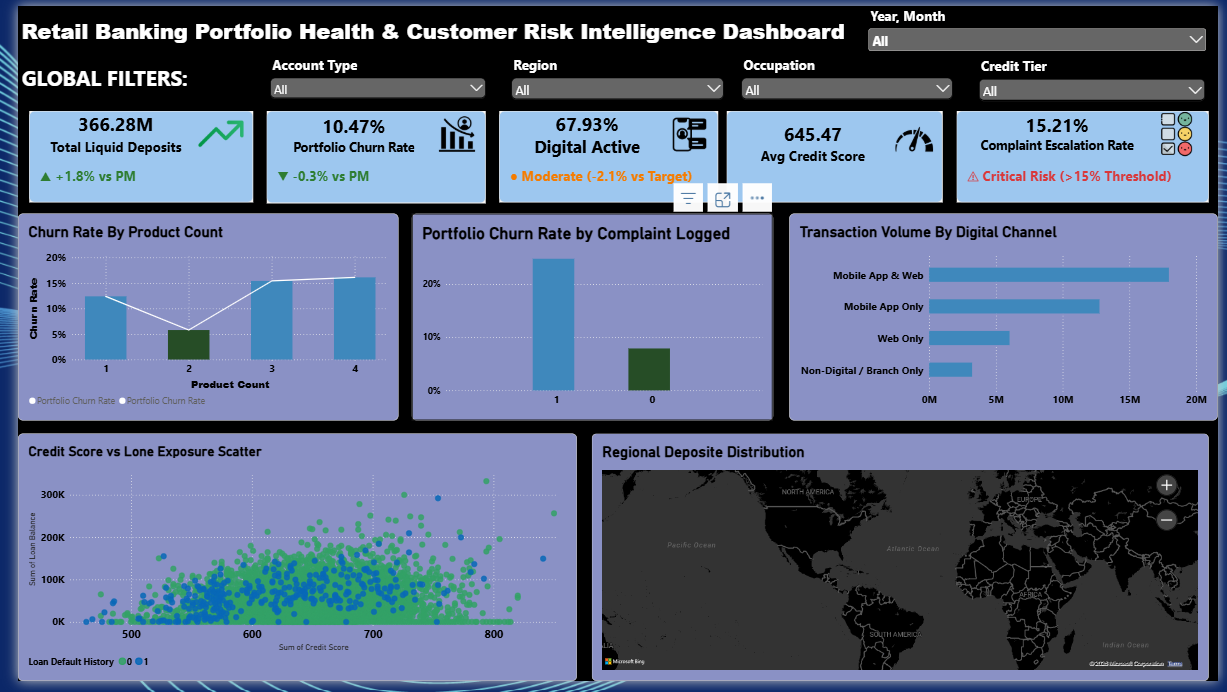

Layout of this report page (visuals, bound fields, positions):
{"tool":"powerbi","page":{"name":"Page 1","canvas":[1920,1080],"ordinal":0},"visuals":[{"type":"cardVisual","fields":{"Data":["Main Data.Total Liquid Deposits"]},"box":[18.3,167.3,358.5,146.2],"z":0},{"type":"cardVisual","fields":{"Data":["Main Data.Portfolio Churn Rate"]},"box":[397.8,167.3,350,147.6],"z":1000},{"type":"cardVisual","fields":{"Data":["Main Data.Digital Adoption Rate"]},"box":[770.4,167.3,350,146.2],"z":2000},{"type":"cardVisual","fields":{"Data":["Main Data.Average Credit Score"]},"box":[1134.5,167.3,345.8,146.2],"z":3000},{"type":"cardVisual","fields":{"Data":["Main Data.Complaint Escalation Rate"]},"box":[1502.8,167.3,403.5,146.2],"z":4000},{"type":"lineClusteredColumnComboChart","title":"Churn Rate By Product Count","fields":{"Category":["Main Data.Num Products"],"Y":["Main Data.Portfolio Churn Rate"],"Y2":["Main Data.Portfolio Churn Rate"]},"box":[0,332.7,609.1,330.9],"z":5000},{"type":"columnChart","fields":{"Category":["Main Data.Complaint Logged"],"Y":["Main Data.Portfolio Churn Rate"]},"box":[629.1,332.7,578.2,330.9],"z":6000},{"type":"scatterChart","title":"Credit Score vs Lone Exposure Scatter","fields":{"X":["Sum(Main Data.Credit Score)"],"Y":["Sum(Main Data.Loan Balance)"],"Series":["Main Data.Loan Default History"],"Category":["Main Data.Customer ID"]},"box":[0,683.6,894.5,396.4],"z":7000},{"type":"filledMap","title":"Regional Deposite Distribution","fields":{"Category":["Main Data.Region"]},"box":[918.2,683.6,987.3,396.4],"z":8000},{"type":"clusteredBarChart","title":"Transaction Volume By Digital Channel","fields":{"Category":["Main Data.Digital Channel"],"Y":["Sum(Main Data.Monthly Transaction Volume)"]},"box":[1234.5,332.7,685.5,330.9],"z":9000},{"type":"slicer","fields":{"Values":["Main Data.Account Type"]},"box":[398.2,78.2,356.4,85],"z":10000},{"type":"slicer","fields":{"Values":["Main Data.Region"]},"box":[783.6,78.2,350.9,85],"z":11000},{"type":"slicer","fields":{"Values":["Main Data.Occupation"]},"box":[1152.7,78.2,349.1,85],"z":12000},{"type":"slicer","fields":{"Values":["Main Data.Credit Risk Scoring Band"]},"box":[1532.7,80,372.7,85.5],"z":13000},{"type":"shape","box":[0,77.3,335,71.8],"z":14000},{"type":"shape","box":[0,0,1920,78.2],"z":15000},{"type":"slicer","fields":{"Values":["Main Data.Date.Variation.Date Hierarchy.Year","Main Data.Date.Variation.Date Hierarchy.Month"]},"box":[1356.4,0,549.6,78.2],"z":16000}]}

Visuals, with their boxes in screenshot pixels (x1, y1, x2, y2), scaled from the page's 1920x1080 canvas onto the 1227x692 screenshot:
cardVisual - Main Data.Total Liquid Deposits: locate(12, 107, 241, 201)
cardVisual - Main Data.Portfolio Churn Rate: locate(254, 107, 478, 202)
cardVisual - Main Data.Digital Adoption Rate: locate(492, 107, 716, 201)
cardVisual - Main Data.Average Credit Score: locate(725, 107, 946, 201)
cardVisual - Main Data.Complaint Escalation Rate: locate(960, 107, 1218, 201)
"Churn Rate By Product Count" lineClusteredColumnComboChart: locate(0, 213, 389, 425)
columnChart - Main Data.Complaint Logged x Main Data.Portfolio Churn Rate: locate(402, 213, 772, 425)
"Credit Score vs Lone Exposure Scatter" scatterChart: locate(0, 438, 572, 691)
"Regional Deposite Distribution" filledMap: locate(587, 438, 1218, 691)
"Transaction Volume By Digital Channel" clusteredBarChart: locate(789, 213, 1226, 425)
slicer - Main Data.Account Type: locate(254, 50, 482, 105)
slicer - Main Data.Region: locate(501, 50, 725, 105)
slicer - Main Data.Occupation: locate(737, 50, 960, 105)
slicer - Main Data.Credit Risk Scoring Band: locate(979, 51, 1218, 106)
shape: locate(0, 50, 214, 96)
shape: locate(0, 0, 1226, 50)
slicer - Main Data.Date.Variation.Date Hierarchy.Year x Main Data.Date.Variation.Date Hierarchy.Month: locate(867, 0, 1218, 50)
